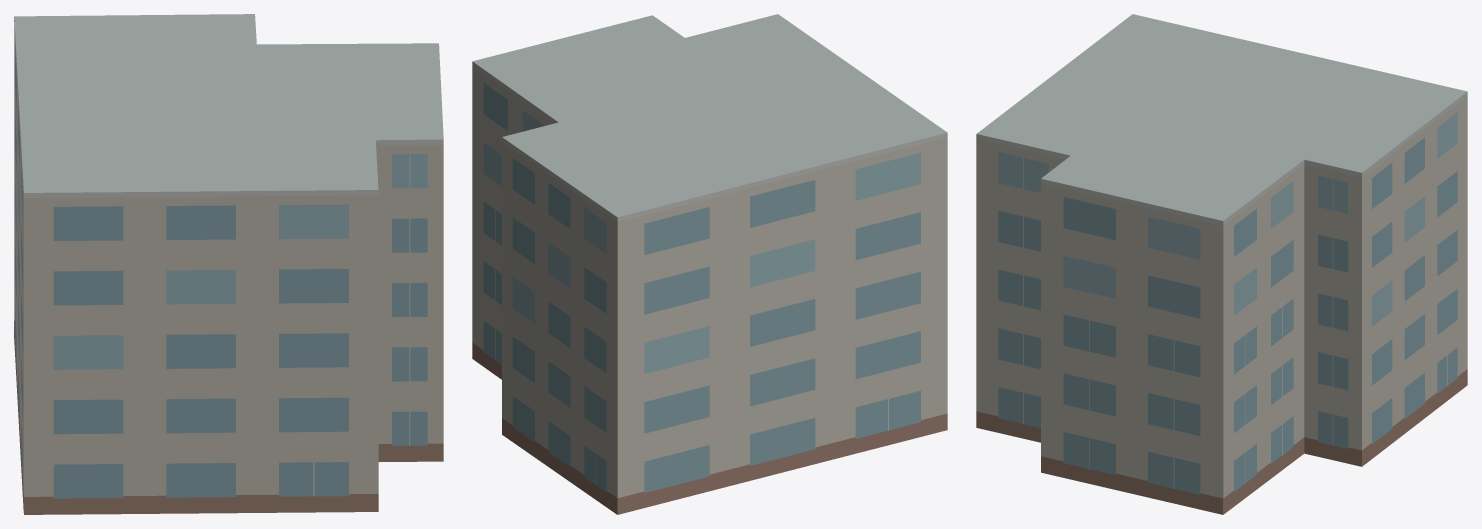
File: survey-upis-32836200.glb
The picture shows the model from 3 angles, left to right: view 1: azimuth 30°, elevation 25°; view 2: azimuth 150°, elevation 25°; view 3: azimuth 270°, elevation 25°; orthographic projection. The views are drawn at different scales.
Parts seen in each view (by area): view 1: survey-upis-32836200.tmp; view 2: survey-upis-32836200.tmp; view 3: survey-upis-32836200.tmp.
Part boxes in pixels (x1,y1,x2,y2): survey-upis-32836200.tmp: [14, 14, 443, 514]; survey-upis-32836200.tmp: [472, 14, 947, 514]; survey-upis-32836200.tmp: [976, 14, 1467, 514].
Bounding box in the file's own units: 22.82 × 15.1 × 22.87.
